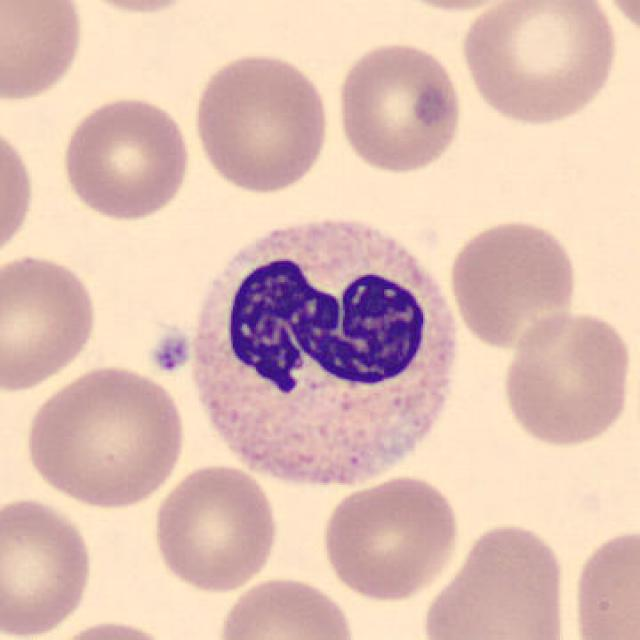Neutrophil: (185, 199, 469, 509)
Platelets: (411, 75, 459, 131), (146, 328, 194, 375)
RBC: (22, 362, 188, 512), (455, 0, 622, 129), (188, 48, 332, 196), (498, 306, 634, 449), (418, 518, 574, 640), (318, 471, 462, 603), (444, 215, 582, 351), (332, 39, 468, 176), (57, 92, 194, 224), (149, 462, 283, 594), (0, 250, 101, 394), (0, 492, 98, 638), (213, 573, 359, 640), (0, 0, 87, 106), (567, 523, 640, 640), (0, 118, 37, 264), (41, 615, 185, 640), (62, 0, 210, 16), (377, 0, 530, 14), (595, 0, 640, 44)
